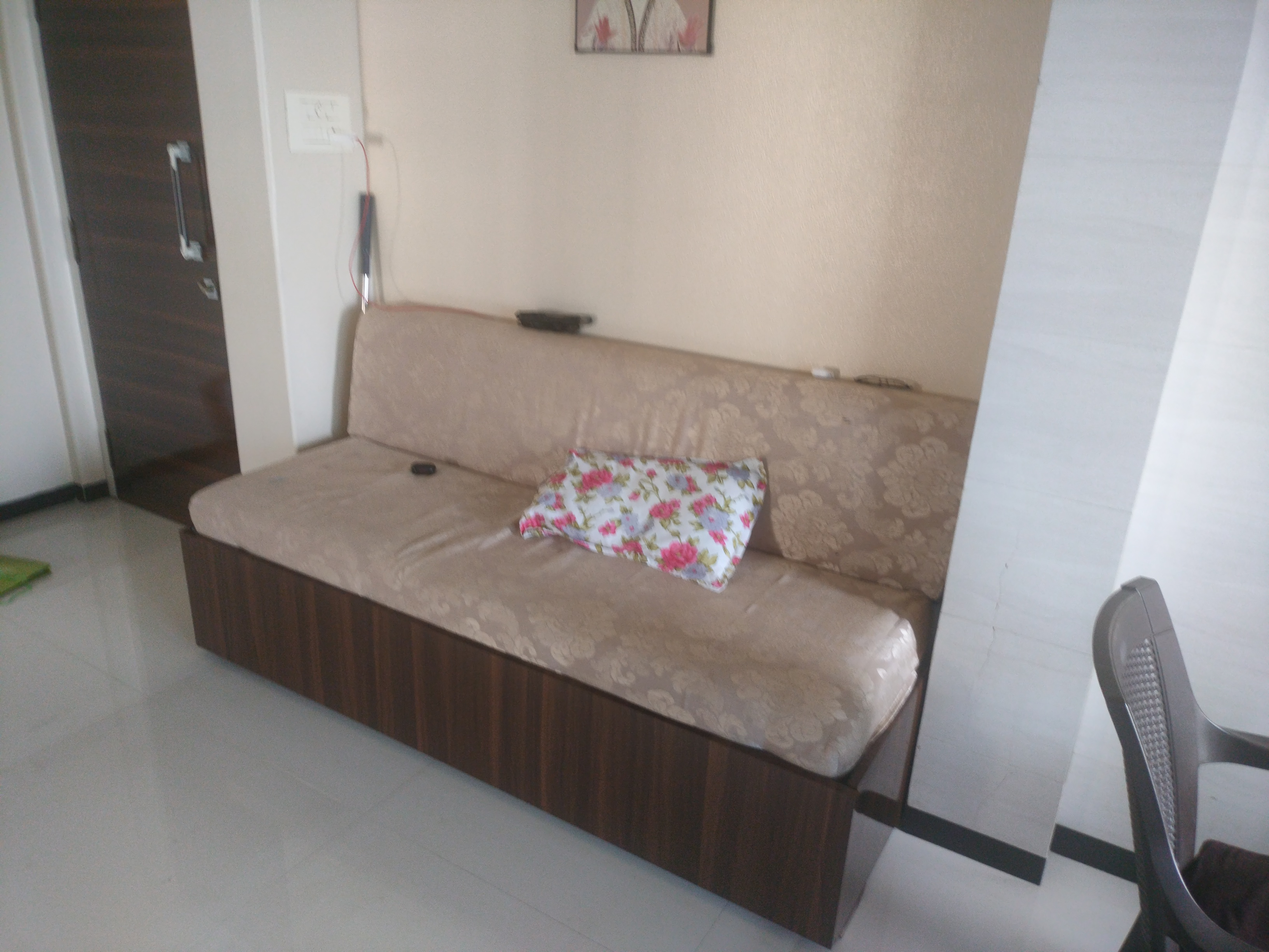sofa: (185, 303, 979, 952)
